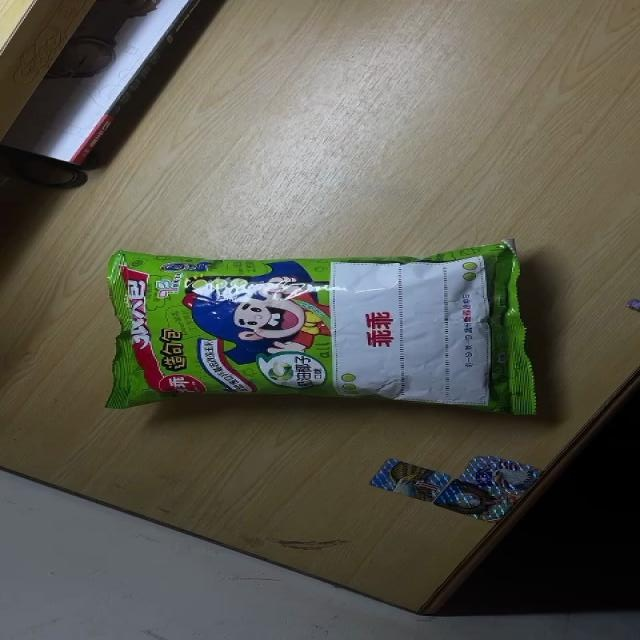Good-Luck: (101, 239, 536, 418)
